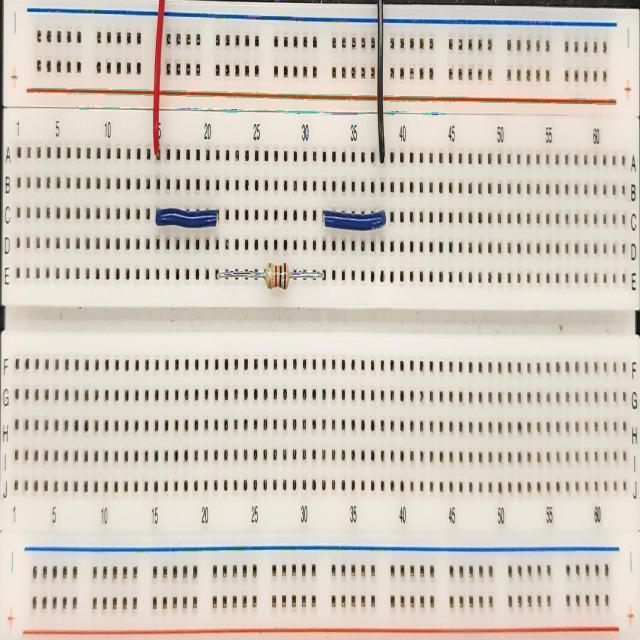Resistor: (216, 261, 325, 291)
